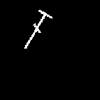double_crochet: (25, 10, 51, 47)
